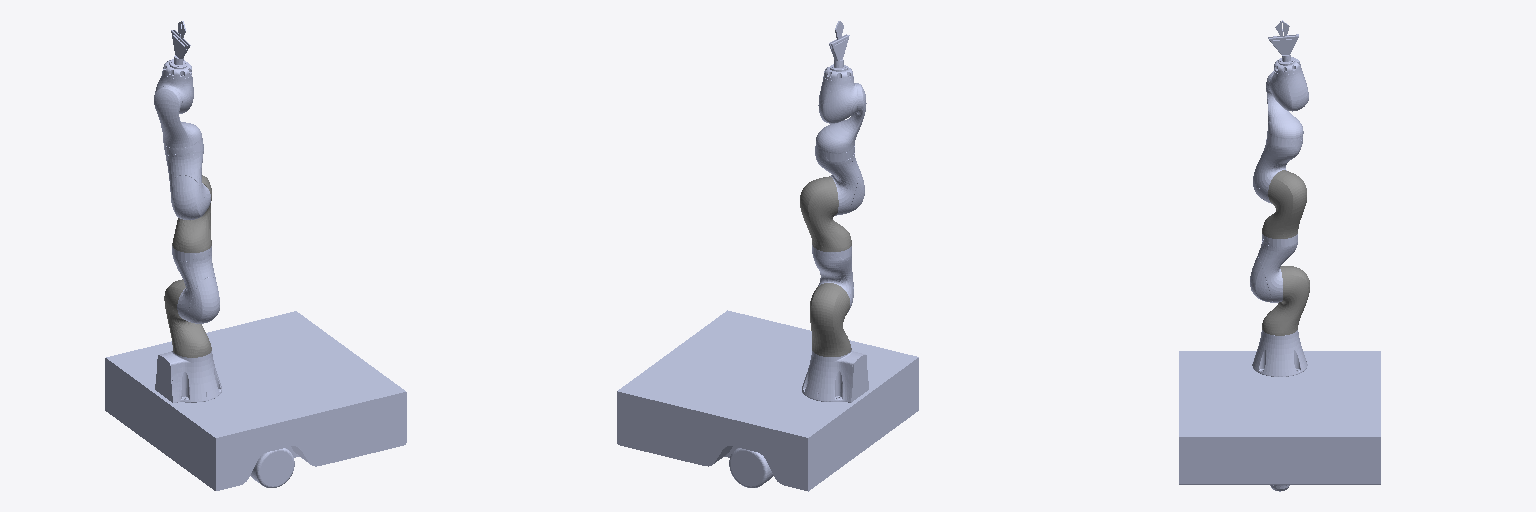
robot.urdf — kuka_mobile:
<?xml version="1.0" encoding="utf-8" ?>
<!-- This URDF was automatically created by SolidWorks to URDF Exporter! Originally created by [author] ([email redacted]) 
     Commit Version: 1.6.0-1-g15f4949  Build Version: 1.6.7594.29634
     For more information, please see http://wiki.ros.org/sw_urdf_exporter -->
<robot name="kuka_mobile">
    <link name="chassis">
        
<inertial>
            <origin xyz="0.25869541672426 0.192505780825812 -8.21499680860377E-09" rpy="0 0 0" />
            <mass value="109.730388705482" />
            <inertia ixx="5.4341782966408" ixy="0.106274870195994" ixz="3.46114554365351E-08" iyy="10.5363707740741" iyz="-1.27246804837571E-07" izz="5.81414454117962" />
        </inertial>

        <visual>
            <origin xyz="0 0 0" rpy="0 0 0" />
            <geometry>
                <mesh filename="package://kuka_mobile/meshes/chassis.STL" />
            </geometry>
            <material name="">
                <color rgba="0.792156862745098 0.819607843137255 0.933333333333333 1" />
            </material>
        </visual>
        <collision>
            <origin xyz="0 0 0" rpy="0 0 0" />
            <geometry>
                <mesh filename="package://kuka_mobile/meshes/chassis.STL" />
            </geometry>
        </collision>
    </link>
    <link name="wheel1">
        
<inertial>
            <origin xyz="0 -2.77555756156289E-17 0.0370615924700728" rpy="0 0 0" />
            <mass value="100.38833895187297" />
            <inertia ixx="0.00272539380308217" ixy="0" ixz="-2.83076731875841E-19" iyy="0.00272539380308217" iyz="-2.44777210122578E-20" izz="0.00392351398264956" />
        </inertial>

        <visual>
            <origin xyz="0 0 0" rpy="0 0 0" />
            <geometry>
                <mesh filename="package://kuka_mobile/meshes/wheel1.STL" />
            </geometry>
            <material name="">
                <color rgba="0.792156862745098 0.819607843137255 0.933333333333333 1" />
            </material>
        </visual>
        <collision>
            <origin xyz="0 0 0" rpy="0 0 0" />
            <geometry>
                <mesh filename="package://kuka_mobile/meshes/wheel1.STL" />
            </geometry>
        </collision>
    </link>
    <joint name="w1" type="continuous">
        <origin xyz="0.127 -0.28702 0.098538" rpy="1.5708 -1.4539 0" />
        <parent link="chassis" />
        <child link="wheel1" />
        <axis xyz="0 0 1" />
        <!-- <limit lower="-3.05" upper="3.05" effort="10" velocity="50"/> -->
    </joint>
    <link name="wheel2">
        
<inertial>
            <origin xyz="0 5.55111512312578E-17 0.0370615924700728" rpy="0 0 0" />
            <mass value="1.38833895187297" />
            <inertia ixx="0.00272539380308217" ixy="0" ixz="1.28704878059792E-19" iyy="0.00272539380308217" iyz="4.12507805507371E-20" izz="0.00392351398264955" />
        </inertial>

        <visual>
            <origin xyz="0 0 0" rpy="0 0 0" />
            <geometry>
                <mesh filename="package://kuka_mobile/meshes/wheel2.STL" />
            </geometry>
            <material name="">
                <color rgba="0.792156862745098 0.819607843137255 0.933333333333333 1" />
            </material>
        </visual>
        <collision>
            <origin xyz="0 0 0" rpy="0 0 0" />
            <geometry>
                <mesh filename="package://kuka_mobile/meshes/wheel2.STL" />
            </geometry>
        </collision>
    </link>
    <joint name="w2" type="continuous">
        <origin xyz="0.127 0.28702 0.098538" rpy="1.5708 -1.0099 3.1416" />
        <parent link="chassis" />
        <child link="wheel2" />
        <axis xyz="0 0 -1" />
        <!-- <limit lower="-3.05" upper="3.05" effort="10" velocity="50"/> -->

    </joint>
    <link name="base">
        
<inertial>
            <origin xyz="-0.0128558759424202 2.33730268292638E-07 0.0699637420545312" rpy="0 0 0" />
            <mass value="3.85673109866343" />
            <inertia ixx="0.0141694474779058" ixy="-3.46114554601558E-08" ixz="0.000619856375109048" iyy="0.0177084891969044" iyz="1.27246804791466E-07" izz="0.0169453957306945" />
        </inertial>

        <visual>
            <origin xyz="0 0 0" rpy="0 0 0" />
            <geometry>
                <mesh filename="package://kuka_mobile/meshes/base.STL" />
            </geometry>
            <material name="">
                <color rgba="0.792156862745098 0.819607843137255 0.933333333333333 1" />
            </material>
        </visual>
        <collision>
            <origin xyz="0 0 0" rpy="0 0 0" />
            <geometry>
                <mesh filename="package://kuka_mobile/meshes/base.STL" />
            </geometry>
        </collision>
    </link>
    <joint name="basekuka" type="fixed">
        <origin xyz="0 0 0.27942" rpy="0 0 0" />
        <parent link="chassis" />
        <child link="base" />
        <axis xyz="0 0 0" />
    </joint>
    <link name="l1">
        
<inertial>
            <origin xyz="-1.07419610897042E-06 -0.0348176379806646 0.123297111861531" rpy="0 0 0" />
            <mass value="2.69585243416401" />
            <inertia ixx="0.0169841452084803" ixy="-5.72170854771202E-09" ixz="1.49826473814368E-07" iyy="0.0162060468739537" iyz="0.00301569975605835" izz="0.00600698145803866" />
        </inertial>

        <visual>
            <origin xyz="0 0 0" rpy="0 0 0" />
            <geometry>
                <mesh filename="package://kuka_mobile/meshes/l1.STL" />
            </geometry>
            <material name="">
                <color rgba="0.6 0.6 0.6 1" />
            </material>
        </visual>
        <collision>
            <origin xyz="0 0 0" rpy="0 0 0" />
            <geometry>
                <mesh filename="package://kuka_mobile/meshes/l1.STL" />
            </geometry>
        </collision>
    </link>
    <joint name="j1" type="revolute">
        <origin xyz="0 0 0.147" rpy="0 0 -2.9571" />
        <parent link="base" />
        <child link="l1" />
        <axis xyz="0 0 1" />
        <limit lower="-3.05" upper="3.05" effort="10" velocity="50" />
    </joint>
    <link name="l2">
        
<inertial>
            <origin xyz="-2.27732565652883E-07 0.0287915867829553 0.0869420587805022" rpy="0 0 0" />
            <mass value="3.20259654390777" />
            <inertia ixx="0.0251758266423637" ixy="-2.64379354177231E-08" ixz="-4.65034549727592E-08" iyy="0.0238921587204047" iyz="0.00467719478698126" izz="0.0076773684272548" />
        </inertial>

        <visual>
            <origin xyz="0 0 0" rpy="0 0 0" />
            <geometry>
                <mesh filename="package://kuka_mobile/meshes/l2.STL" />
            </geometry>
            <material name="">
                <color rgba="0.792156862745098 0.819607843137255 0.933333333333333 1" />
            </material>
        </visual>
        <collision>
            <origin xyz="0 0 0" rpy="0 0 0" />
            <geometry>
                <mesh filename="package://kuka_mobile/meshes/l2.STL" />
            </geometry>
        </collision>
    </link>
    <joint name="j2" type="revolute">
        <origin xyz="0 0 0.1925" rpy="0 0.0053997 0" />
        <parent link="l1" />
        <child link="l2" />
        <axis xyz="0 1 0" />
        <limit lower="-3.05" upper="3.05" effort="10" velocity="50" />
    </joint>
    <link name="l3">
        
<inertial>
            <origin xyz="-8.77561335686089E-07 -0.0348174862715901 0.123429867343758" rpy="0 0 0" />
            <mass value="2.69585280725073" />
            <inertia ixx="0.0169842680845662" ixy="-5.19018879957533E-09" ixz="1.13076410258966E-07" iyy="0.0162060522048722" iyz="0.00301571989071225" izz="0.00600685886730151" />
        </inertial>

        <visual>
            <origin xyz="0 0 0" rpy="0 0 0" />
            <geometry>
                <mesh filename="package://kuka_mobile/meshes/l3.STL" />
            </geometry>
            <material name="">
                <color rgba="0.6 0.6 0.6 1" />
            </material>
        </visual>
        <collision>
            <origin xyz="0 0 0" rpy="0 0 0" />
            <geometry>
                <mesh filename="package://kuka_mobile/meshes/l3.STL" />
            </geometry>
        </collision>
    </link>
    <joint name="j3" type="revolute">
        <origin xyz="0 -0.0005 0.20667" rpy="0 0 -0.90202" />
        <parent link="l2" />
        <child link="l3" />
        <axis xyz="0 0 1" />
        <limit lower="-3.05" upper="3.05" effort="10" velocity="50" />
    </joint>
    <link name="l4">
        
<inertial>
            <origin xyz="-3.13438787119535E-07 0.0287913672518169 0.0869421425942705" rpy="0 0 0" />
            <mass value="3.20258822227518" />
            <inertia ixx="0.0251758497813214" ixy="-2.12945347691923E-08" ixz="-4.89557748296118E-08" iyy="0.0238921733857743" iyz="0.00467720152801212" izz="0.007677390075185" />
        </inertial>

        <visual>
            <origin xyz="0 0 0" rpy="0 0 0" />
            <geometry>
                <mesh filename="package://kuka_mobile/meshes/l4.STL" />
            </geometry>
            <material name="">
                <color rgba="0.792156862745098 0.819607843137255 0.933333333333333 1" />
            </material>
        </visual>
        <collision>
            <origin xyz="0 0 0" rpy="0 0 0" />
            <geometry>
                <mesh filename="package://kuka_mobile/meshes/l4.STL" />
            </geometry>
        </collision>
    </link>
    <joint name="j4" type="revolute">
        <origin xyz="0 0 0.19263" rpy="0 0.141 0" />
        <parent link="l3" />
        <child link="l4" />
        <axis xyz="0 1 0" />
        <limit lower="-3.05" upper="3.05" effort="10" velocity="50" />
    </joint>
    <link name="l5">
        
<inertial>
            <origin xyz="3.38780084208068E-07 -0.0298262252673278 0.0612977707745908" rpy="0 0 0" />
            <mass value="1.21453437186645" />
            <inertia ixx="0.00673926227718285" ixy="-6.08201406338688E-10" ixz="9.88272083122361E-09" iyy="0.00566802038986323" iyz="0.00222830135392842" izz="0.00305596316322463" />
        </inertial>

        <visual>
            <origin xyz="0 0 0" rpy="0 0 0" />
            <geometry>
                <mesh filename="package://kuka_mobile/meshes/l5.STL" />
            </geometry>
            <material name="">
                <color rgba="0.792156862745098 0.819607843137255 0.933333333333333 1" />
            </material>
        </visual>
        <collision>
            <origin xyz="0 0 0" rpy="0 0 0" />
            <geometry>
                <mesh filename="package://kuka_mobile/meshes/l5.STL" />
            </geometry>
        </collision>
    </link>
    <joint name="j5" type="revolute">
        <origin xyz="0 -0.0005 0.22177" rpy="0 0 2.9452" />
        <parent link="l4" />
        <child link="l5" />
        <axis xyz="0 0 1" />
        <limit lower="-3.05" upper="3.05" effort="10" velocity="50" />
    </joint>
    <link name="l6">
        
<inertial>
            <origin xyz="4.16663853847199E-06 0.000339720932477222 0.000593402179120295" rpy="0 0 0" />
            <mass value="1.80875150376228" />
            <inertia ixx="0.00489794485509576" ixy="4.7150088579675E-07" ixz="-5.54441116045596E-08" iyy="0.00468931114140774" iyz="0.000244483132492946" izz="0.00356698606616304" />
        </inertial>

        <visual>
            <origin xyz="0 0 0" rpy="0 0 0" />
            <geometry>
                <mesh filename="package://kuka_mobile/meshes/l6.STL" />
            </geometry>
            <material name="">
                <color rgba="0.792156862745098 0.819607843137255 0.933333333333333 1" />
            </material>
        </visual>
        <collision>
            <origin xyz="0 0 0" rpy="0 0 0" />
            <geometry>
                <mesh filename="package://kuka_mobile/meshes/l6.STL" />
            </geometry>
        </collision>
    </link>
    <joint name="j6" type="revolute">
        <origin xyz="0 0 0.17753" rpy="0 0.24956 0" />
        <parent link="l5" />
        <child link="l6" />
        <axis xyz="0 1 0" />
        <limit lower="-3.05" upper="3.05" effort="10" velocity="50" />
    </joint>
    <link name="l7">
        
<inertial>
            <origin xyz="3.14040565227436E-06 -1.62670008116428E-06 0.0326333719980587" rpy="0 0 0" />
            <mass value="0.2060936799429" />
            <inertia ixx="0.000135859137734074" ixy="1.41623465593681E-08" ixz="-6.52250861875691E-09" iyy="0.000135852334786769" iyz="2.31577071253533E-09" izz="0.000237447580191033" />
        </inertial>

        <visual>
            <origin xyz="0 0 0" rpy="0 0 0" />
            <geometry>
                <mesh filename="package://kuka_mobile/meshes/l7.STL" />
            </geometry>
            <material name="">
                <color rgba="0.792156862745098 0.819607843137255 0.933333333333333 1" />
            </material>
        </visual>
        <collision>
            <origin xyz="0 0 0" rpy="0 0 0" />
            <geometry>
                <mesh filename="package://kuka_mobile/meshes/l7.STL" />
            </geometry>
        </collision>
    </link>
    <joint name="j7" type="revolute">
        <origin xyz="0 0 0.062149" rpy="0 0 -2.029" />
        <parent link="l6" />
        <child link="l7" />
        <axis xyz="0 0 1" />
        <limit lower="-3.05" upper="3.05" effort="10" velocity="50" />
    </joint>
    <link name="end">
        
<inertial>
            <origin xyz="1.83683038224025E-09 0.0704827686642053 3.22981225098218E-10" rpy="0 0 0" />
            <mass value="0.0983536038829532" />
            <inertia ixx="9.63181987090208E-05" ixy="-2.41838468433735E-12" ixz="9.70038854601207E-12" iyy="4.7440278289165E-05" iyz="-2.26959857503468E-13" izz="0.000136914965695072" />
        </inertial>

        <visual>
            <origin xyz="0 0 0" rpy="0 0 0" />
            <geometry>
                <mesh filename="package://kuka_mobile/meshes/end.STL" />
            </geometry>
            <material name="">
                <color rgba="0.792156862745098 0.819607843137255 0.933333333333333 1" />
            </material>
        </visual>
        <collision>
            <origin xyz="0 0 0" rpy="0 0 0" />
            <geometry>
                <mesh filename="package://kuka_mobile/meshes/end.STL" />
            </geometry>
        </collision>
    </link>
    <joint name="fix" type="fixed">
        <origin xyz="0 0 0.033454" rpy="1.5708 0 1.3475" />
        <parent link="l7" />
        <child link="end" />
        <axis xyz="0 1 0" />
    </joint>
    <link name="gripp1">
        
<inertial>
            <origin xyz="-0.0100369066785437 0.0362933345087955 0" rpy="0 0 0" />
            <mass value="0.00607219847001786" />
            <inertia ixx="2.53015790454417E-06" ixy="2.06799080760885E-07" ixz="9.92616735063633E-24" iyy="2.32250952226826E-07" iyz="-5.02512222125964E-22" izz="2.73363482301365E-06" />
        </inertial>

        <visual>
            <origin xyz="0 0 0" rpy="0 0 0" />
            <geometry>
                <mesh filename="package://kuka_mobile/meshes/gripp1.STL" />
            </geometry>
            <material name="">
                <color rgba="0.792156862745098 0.819607843137255 0.933333333333333 1" />
            </material>
        </visual>
        <collision>
            <origin xyz="0 0 0" rpy="0 0 0" />
            <geometry>
                <mesh filename="package://kuka_mobile/meshes/gripp1.STL" />
            </geometry>
        </collision>
    </link>
    <joint name="g1" type="prismatic">
        <origin xyz="0 0.11184 0" rpy="3.1416 0 -3.1416" />
        <parent link="end" />
        <child link="gripp1" />
        <axis xyz="1 0 0" />
        <limit lower="-0.0250" upper="0" effort="10" velocity="50" />
    </joint>
    <link name="gripp2">
        
<inertial>
            <origin xyz="-0.0100369066785437 0.0362933345087957 -7.49400541621981E-16" rpy="0 0 0" />
            <mass value="0.00607219847001784" />
            <inertia ixx="2.53015790454416E-06" ixy="2.0679908076088E-07" ixz="-7.39168595377386E-21" iyy="2.32250952226824E-07" iyz="9.23298999731689E-21" izz="2.73363482301365E-06" />
        </inertial>

        <visual>
            <origin xyz="0 0 0" rpy="0 0 0" />
            <geometry>
                <mesh filename="package://kuka_mobile/meshes/gripp2.STL" />
            </geometry>
            <material name="">
                <color rgba="0.792156862745098 0.819607843137255 0.933333333333333 1" />
            </material>
        </visual>
        <collision>
            <origin xyz="0 0 0" rpy="0 0 0" />
            <geometry>
                <mesh filename="package://kuka_mobile/meshes/gripp2.STL" />
            </geometry>
        </collision>
    </link>
    <joint name="g2" type="prismatic">
        <origin xyz="0 0.11184 0" rpy="0 0 0" />
        <parent link="end" />
        <child link="gripp2" />
        <axis xyz="-1 0 0" />
        <limit lower="0" upper="0.025" effort="10" velocity="50" />
    </joint>


    <link name="front">
        
<inertial>
            <origin xyz="0 0 0" rpy="0 0 0" />
            <mass value="0.209263635450537" />
            <inertia ixx="0.000113542171246753" ixy="1.10114283143059E-20" ixz="0" iyy="0.000113542171246753" iyz="0" izz="0.000113542171246753" />
        </inertial>

        <visual>
            <origin xyz="0 0 0" rpy="0 0 0" />
            <geometry>
                <mesh filename="package://kuka_mobile/meshes/front.STL" />
            </geometry>
            <material name="">
                <color rgba="0.792156862745098 0.819607843137255 0.933333333333333 1" />
            </material>
        </visual>
        <collision>
            <origin xyz="0 0 0" rpy="0 0 0" />
            <geometry>
                <mesh filename="package://kuka_mobile/meshes/front.STL" />
            </geometry>
        </collision>
    </link>

    <joint name="fw" type="continuous">
        <origin xyz="0.5588 0 0.060438" rpy="-1.7844 0.47725 -3.046" />
        <parent link="chassis" />
        <child link="front" />
        <axis xyz="0 1 0" />
    </joint>
    
    
<transmission name="trans_w1">
        <type>transmission_interface/SimpleTransmission</type>
        <joint name="w1">
            <hardwareInterface>hardware_interface/VelocityJointInterface</hardwareInterface>
        </joint>
        <actuator name="w1_motor">
            <hardwareInterface>hardware_interface/VelocityJointInterface</hardwareInterface>
            <mechanicalReduction>1</mechanicalReduction>
        </actuator>
    </transmission>
    <transmission name="trans_w2">
        <type>transmission_interface/SimpleTransmission</type>
        <joint name="w2">
            <hardwareInterface>hardware_interface/VelocityJointInterface</hardwareInterface>
        </joint>
        <actuator name="w2_motor">
            <hardwareInterface>hardware_interface/VelocityJointInterface</hardwareInterface>
            <mechanicalReduction>1</mechanicalReduction>
        </actuator>
    </transmission>
    <transmission name="trans_j1">
        <type>transmission_interface/SimpleTransmission</type>
        <joint name="j1">
            <hardwareInterface>hardware_interface/PositionJointInterface</hardwareInterface>
        </joint>
        <actuator name="j1_motor">
            <hardwareInterface>hardware_interface/PositionJointInterface</hardwareInterface>
            <mechanicalReduction>1</mechanicalReduction>
        </actuator>
    </transmission>
    <transmission name="trans_j2">
        <type>transmission_interface/SimpleTransmission</type>
        <joint name="j2">
            <hardwareInterface>hardware_interface/PositionJointInterface</hardwareInterface>
        </joint>
        <actuator name="j2_motor">
            <hardwareInterface>hardware_interface/PositionJointInterface</hardwareInterface>
            <mechanicalReduction>1</mechanicalReduction>
        </actuator>
    </transmission>
    <transmission name="trans_j3">
        <type>transmission_interface/SimpleTransmission</type>
        <joint name="j3">
            <hardwareInterface>hardware_interface/PositionJointInterface</hardwareInterface>
        </joint>
        <actuator name="j3_motor">
            <hardwareInterface>hardware_interface/PositionJointInterface</hardwareInterface>
            <mechanicalReduction>1</mechanicalReduction>
        </actuator>
    </transmission>
    <transmission name="trans_j4">
        <type>transmission_interface/SimpleTransmission</type>
        <joint name="j4">
            <hardwareInterface>hardware_interface/PositionJointInterface</hardwareInterface>
        </joint>
        <actuator name="j4_motor">
            <hardwareInterface>hardware_interface/PositionJointInterface</hardwareInterface>
            <mechanicalReduction>1</mechanicalReduction>
        </actuator>
    </transmission>
    <transmission name="trans_j5">
        <type>transmission_interface/SimpleTransmission</type>
        <joint name="j5">
            <hardwareInterface>hardware_interface/PositionJointInterface</hardwareInterface>
        </joint>
        <actuator name="j5_motor">
            <hardwareInterface>hardware_interface/PositionJointInterface</hardwareInterface>
            <mechanicalReduction>1</mechanicalReduction>
        </actuator>
    </transmission>
    <transmission name="trans_j6">
        <type>transmission_interface/SimpleTransmission</type>
        <joint name="j6">
            <hardwareInterface>hardware_interface/PositionJointInterface</hardwareInterface>
        </joint>
        <actuator name="j6_motor">
            <hardwareInterface>hardware_interface/PositionJointInterface</hardwareInterface>
            <mechanicalReduction>1</mechanicalReduction>
        </actuator>
    </transmission>
    <transmission name="trans_j7">
        <type>transmission_interface/SimpleTransmission</type>
        <joint name="j7">
            <hardwareInterface>hardware_interface/PositionJointInterface</hardwareInterface>
        </joint>
        <actuator name="j7_motor">
            <hardwareInterface>hardware_interface/PositionJointInterface</hardwareInterface>
            <mechanicalReduction>1</mechanicalReduction>
        </actuator>
    </transmission>
    <transmission name="trans_g1">
        <type>transmission_interface/SimpleTransmission</type>
        <joint name="g1">
            <hardwareInterface>hardware_interface/EffortJointInterface</hardwareInterface>
        </joint>
        <actuator name="g1_motor">
            <hardwareInterface>hardware_interface/EffortJointInterface</hardwareInterface>
            <mechanicalReduction>1</mechanicalReduction>
        </actuator>
    </transmission>
    <transmission name="trans_g2">
        <type>transmission_interface/SimpleTransmission</type>
        <joint name="g2">
            <hardwareInterface>hardware_interface/EffortJointInterface</hardwareInterface>
        </joint>
        <actuator name="g2_motor">
            <hardwareInterface>hardware_interface/EffortJointInterface</hardwareInterface>
            <mechanicalReduction>1</mechanicalReduction>
        </actuator>
    </transmission>
    <gazebo>
        <plugin name="gazebo_ros_control" filename="libgazebo_ros_control.so">
            <robotNamespace>/</robotNamespace>
        </plugin>
    </gazebo>
</robot>

--- Render facts (derived) ---
3 views of the same robot in one strip: view 1: azimuth 30°, elevation 25°; view 2: azimuth 150°, elevation 25°; view 3: azimuth 270°, elevation 25° (orthographic).
Model kuka_mobile with 15 links and 14 joints (7 revolute, 3 continuous, 2 prismatic, 2 fixed), rooted at chassis, posed all joints at 0.
Visible links, largest first — view 1: chassis, l2, l4, base, l1, l5, l3, wheel1, l6; view 2: chassis, l3, l1, base, l4, l6, l5, l2, wheel2; view 3: chassis, l3, l2, l1, base, l4, l6, l5.
Link boxes in pixels (left/top/right/bottom): chassis: left=105, top=311, right=406, bottom=490; l2: left=172, top=246, right=219, bottom=323; l4: left=164, top=138, right=210, bottom=219; base: left=155, top=351, right=221, bottom=402; l1: left=164, top=279, right=211, bottom=357; l5: left=154, top=86, right=201, bottom=147; l3: left=172, top=175, right=211, bottom=252; wheel1: left=250, top=448, right=294, bottom=487; l6: left=155, top=71, right=193, bottom=113; chassis: left=617, top=310, right=918, bottom=491; l3: left=800, top=176, right=851, bottom=251; l1: left=810, top=283, right=851, bottom=356; base: left=802, top=350, right=868, bottom=402; l4: left=815, top=145, right=864, bottom=215; l6: left=818, top=76, right=857, bottom=123; l5: left=816, top=83, right=866, bottom=153; l2: left=812, top=245, right=853, bottom=311; wheel2: left=729, top=448, right=773, bottom=487; chassis: left=1179, top=351, right=1380, bottom=490; l3: left=1262, top=170, right=1306, bottom=238; l2: left=1250, top=234, right=1297, bottom=302; l1: left=1262, top=266, right=1309, bottom=335; base: left=1252, top=330, right=1307, bottom=376; l4: left=1253, top=132, right=1302, bottom=203; l6: left=1269, top=68, right=1308, bottom=111; l5: left=1266, top=71, right=1303, bottom=138.
Bounding box of the posed robot: 0.7756 × 0.762 × 1.67 m (x, y, z).
15 mesh visuals loaded from 15 distinct referenced files (15 binary STL).
